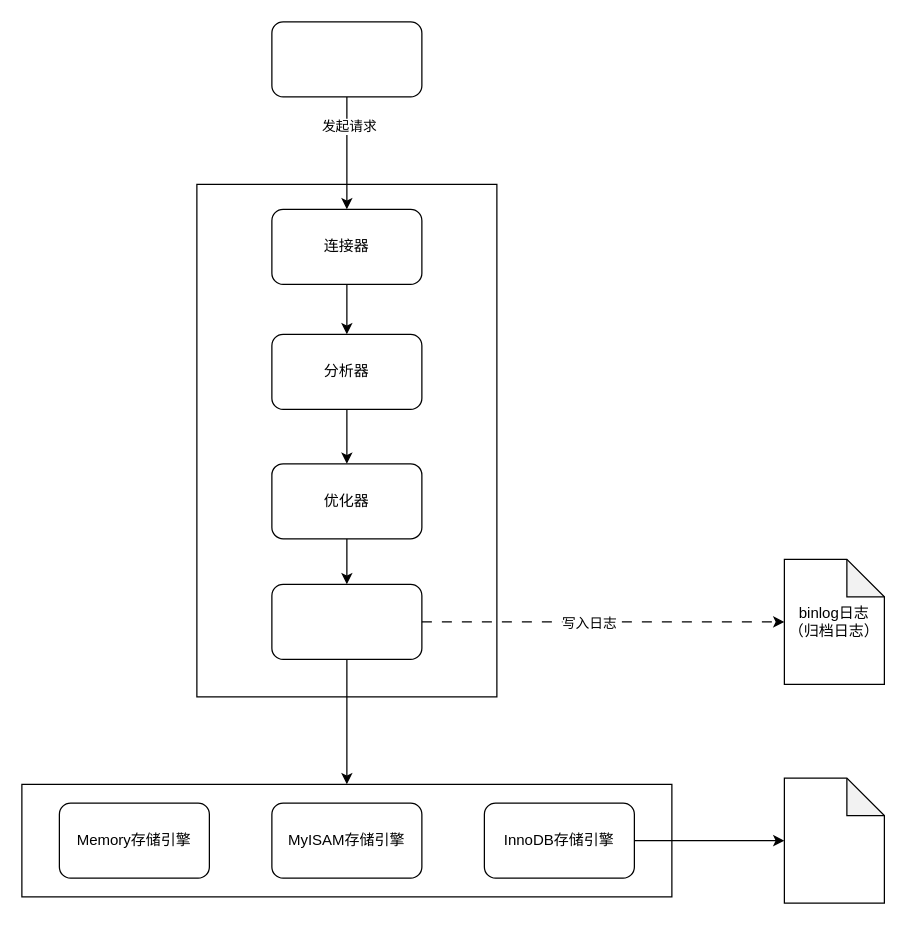
This 906x925 diagram has some shape labels left out. The box of each missing label's shape, as (x1, y1, x2, y2) in pixels:
redolog日志 （重放日志）: (783, 777, 884, 903)
客户端: (271, 21, 422, 97)
执行器: (271, 583, 422, 659)
